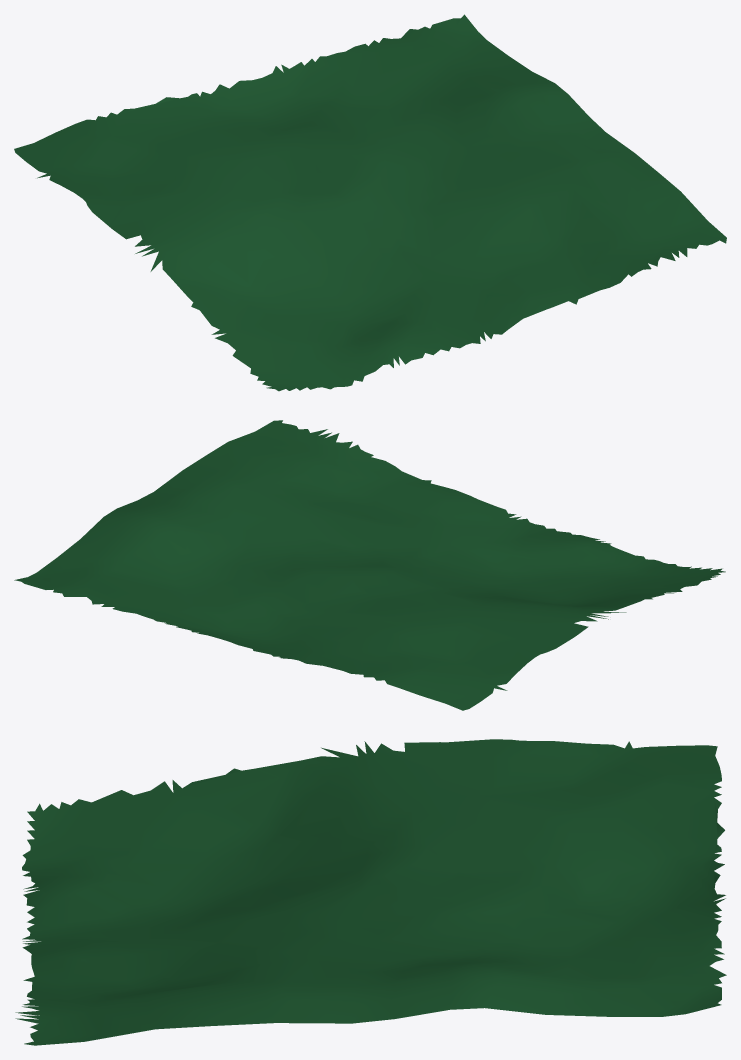
The model's file is payo_land_x3_y1_lod2.glb.
The picture shows the model from 3 angles, top to bottom: view 1: azimuth 30°, elevation 25°; view 2: azimuth 150°, elevation 25°; view 3: azimuth 270°, elevation 25°; orthographic projection. The views are drawn at different scales.
Visible parts, largest first — view 1: payo_land_x3_y1; view 2: payo_land_x3_y1; view 3: payo_land_x3_y1.
Part boxes in pixels (x1,y1,x2,y2): payo_land_x3_y1: (14, 14, 726, 391); payo_land_x3_y1: (14, 420, 725, 710); payo_land_x3_y1: (15, 739, 726, 1045).
Bounding box in the file's own units: 262 × 45.28 × 265.
